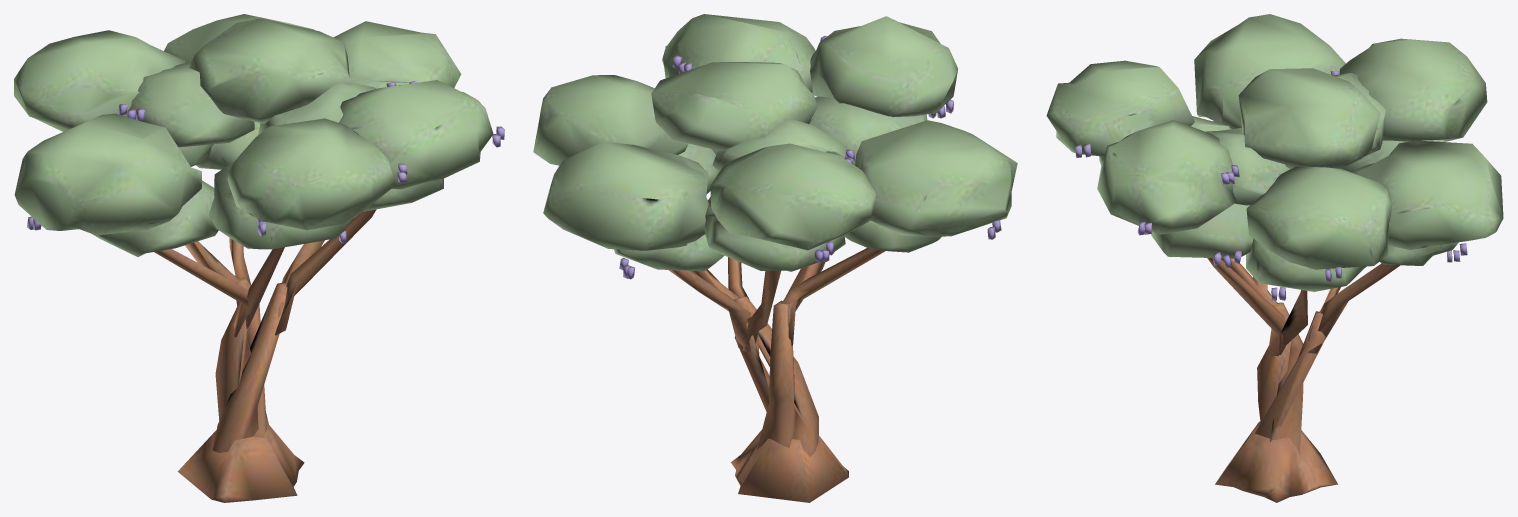
File: olive-tree.glb
3 renders of one model, left to right at view 1: azimuth 30°, elevation 25°; view 2: azimuth 150°, elevation 25°; view 3: azimuth 270°, elevation 25°, orthographic. The views are drawn at different scales.
Visible parts, largest first — view 1: olive-tree_body; view 2: olive-tree_body; view 3: olive-tree_body.
Boxes of the visible parts, x1=… form: olive-tree_body: x1=14, y1=14, x2=504, y2=502; olive-tree_body: x1=533, y1=14, x2=1017, y2=502; olive-tree_body: x1=1046, y1=14, x2=1503, y2=502.
Size of the model in its own units: 4.31 by 3.83 by 3.89.
1 material, 1 textured.
